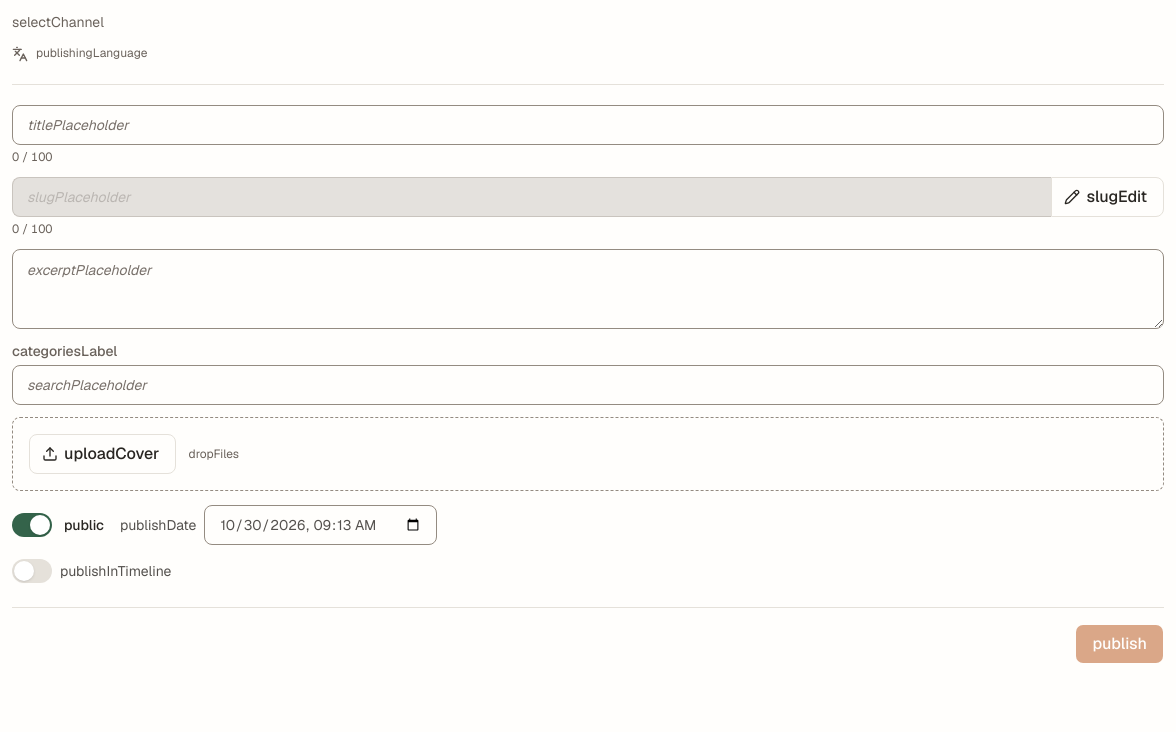
Test case: BlogForm private draft › shows Save & stay / Save & leave instead of Publish when switched to private
Expected: the button "publish" is shown, [1075,624,1164,664]
Flip the public switch to private (first switch on the form).
Click the switch named "public": coordinates (32, 524) [12,512,52,536]
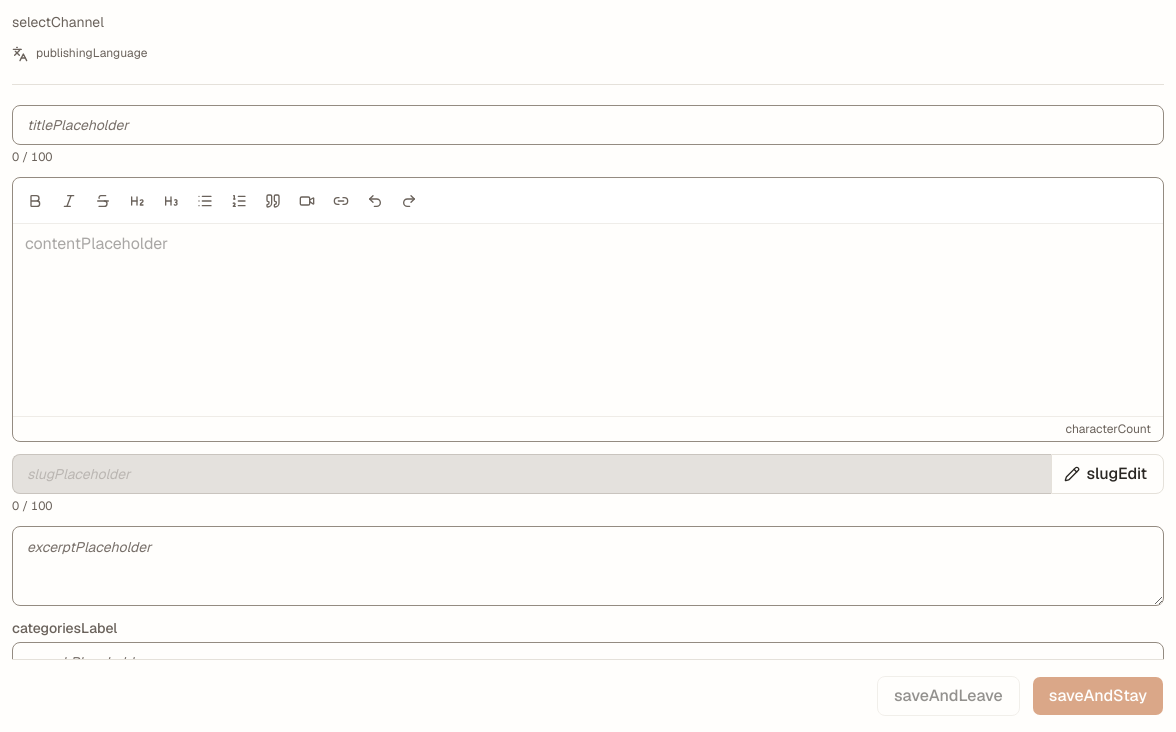
Now the button "saveAndStay" is shown, box [1032,676,1164,716]
Now the button "saveAndLeave" is shown, box [877,676,1020,716]
